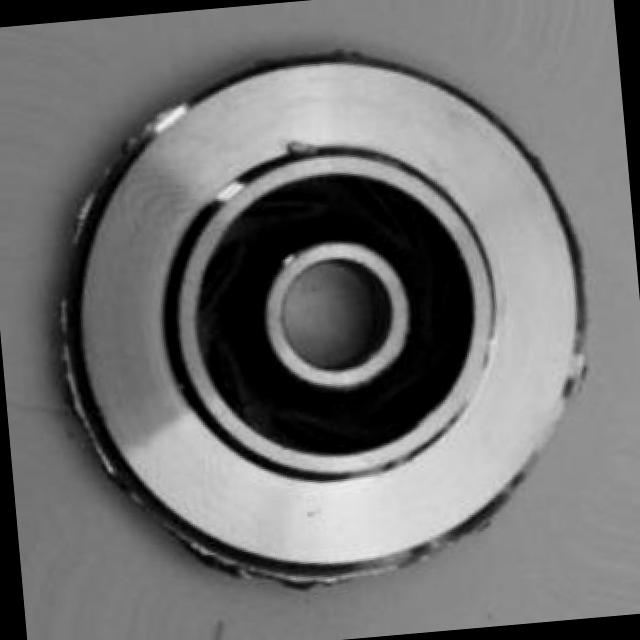Defect: (284, 130, 322, 168)
